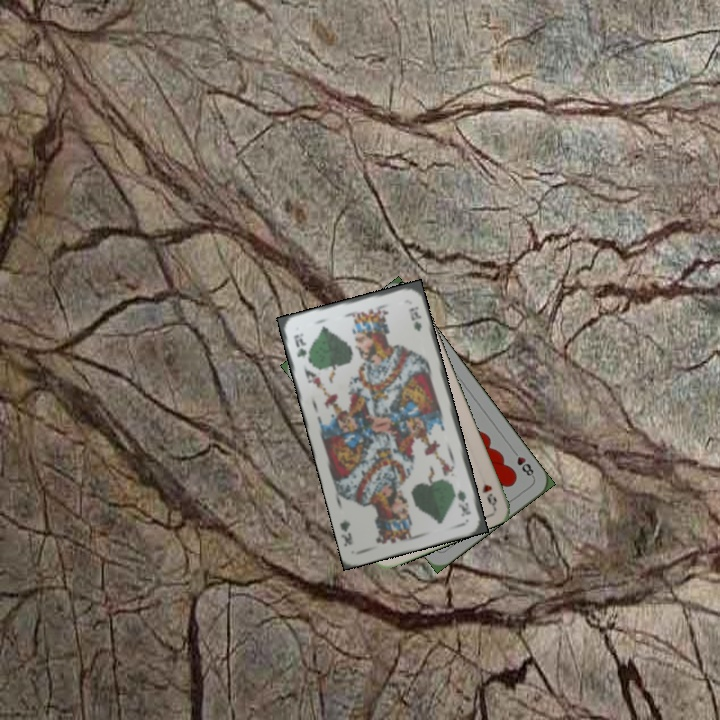GK: (453, 486, 473, 519), (290, 329, 309, 361)
H8: (508, 445, 537, 480)
H9: (478, 479, 500, 509)
